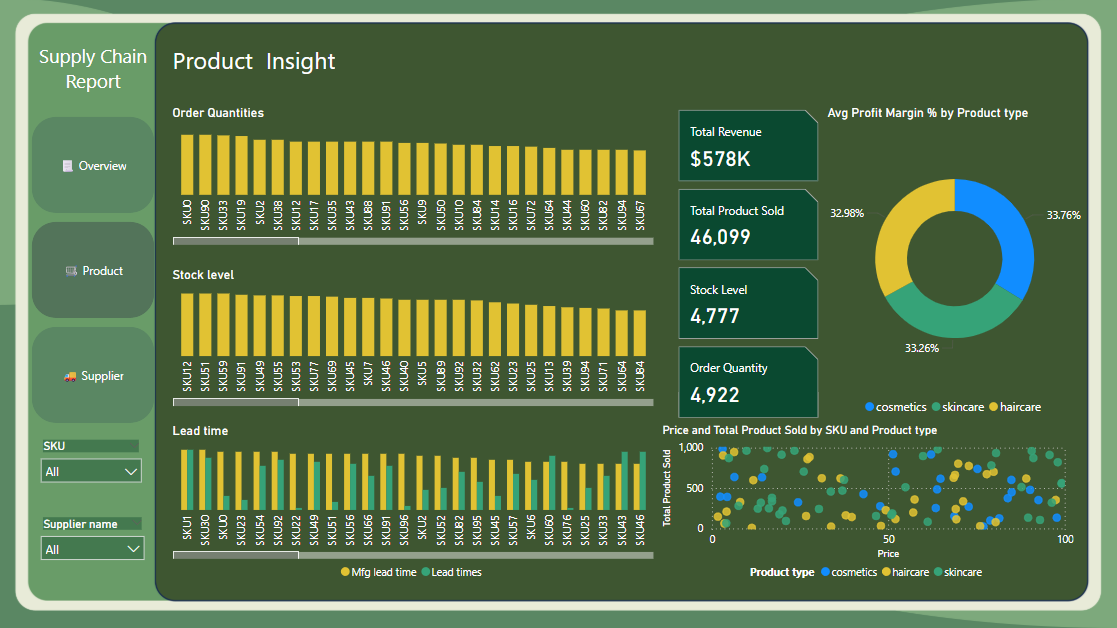

The page's visual inventory and layout, read from the dashboard file:
{"tool":"powerbi","page":{"name":"🛒 Product","canvas":[1280,720],"ordinal":1},"visuals":[{"type":"pageNavigator","box":[38.6,135.7,140,350],"z":0,"group":"g1"},{"type":"clusteredColumnChart","title":"Order Quantities","fields":{"Y":["_Measures.Order Quantity"],"Category":["supply_chain_data.SKU"]},"box":[194.3,122.9,560,164.3],"z":0},{"type":"clusteredColumnChart","title":"Stock level","fields":{"Y":["_Measures.Stock Level"],"Category":["supply_chain_data.SKU"]},"box":[194.3,307.1,560,164.3],"z":1000},{"type":"slicer","fields":{"Values":["supply_chain_data.SKU"]},"box":[38.6,500,135.7,62.9],"z":1000,"group":"g1"},{"type":"clusteredColumnChart","title":"Lead time","fields":{"Y":["Sum(supply_chain_data.Mfg lead time)","Sum(supply_chain_data.Lead times)"],"Category":["supply_chain_data.SKU"]},"box":[194.3,485.7,560,188.6],"z":2000},{"type":"slicer","fields":{"Values":["supply_chain_data.Supplier name"]},"box":[38.6,588.6,138.6,65.7],"z":2000,"group":"g1"},{"type":"textbox","box":[38.6,45.7,140,90],"z":3000,"group":"g1"},{"type":"cardVisual","fields":{"Data":["_Measures.Total Revenue","_Measures.Total Product Sold","_Measures.Stock Level","_Measures.Order Quantity"]},"box":[772.9,122.9,170,362.9],"z":3000},{"type":"donutChart","fields":{"Category":["supply_chain_data.Product type"],"Y":["_Measures.Avg Profit Margin %"]},"box":[942.9,122.9,301.4,362.9],"z":4000},{"type":"scatterChart","fields":{"Category":["supply_chain_data.SKU"],"X":["Sum(supply_chain_data.Price)"],"Y":["_Measures.Total Product Sold"],"Series":["supply_chain_data.Product type"]},"box":[754.3,485.7,480,188.6],"z":5000},{"type":"textbox","box":[194.3,47.1,207.1,51.4],"z":6000},{"type":"group","id":"g1","title":"Group 1","box":[38.6,45.7,140,608.6],"z":6001}]}

Visuals, with their boxes in screenshot pixels (x1, y1, x2, y2), scaled from the page's 1280x720 canvas onto the 1117x628 screenshot:
pageNavigator: <box>34,118,156,424</box>
"Order Quantities" clusteredColumnChart: <box>170,107,658,251</box>
"Stock level" clusteredColumnChart: <box>170,268,658,411</box>
slicer - supply_chain_data.SKU: <box>34,436,152,491</box>
"Lead time" clusteredColumnChart: <box>170,424,658,588</box>
slicer - supply_chain_data.Supplier name: <box>34,513,155,571</box>
textbox: <box>34,40,156,118</box>
cardVisual - _Measures.Total Revenue x _Measures.Total Product Sold: <box>674,107,823,424</box>
donutChart - supply_chain_data.Product type x _Measures.Avg Profit Margin %: <box>823,107,1086,424</box>
scatterChart - supply_chain_data.SKU x Sum(supply_chain_data.Price): <box>658,424,1077,588</box>
textbox: <box>170,41,350,86</box>
"Group 1" group: <box>34,40,156,571</box>
